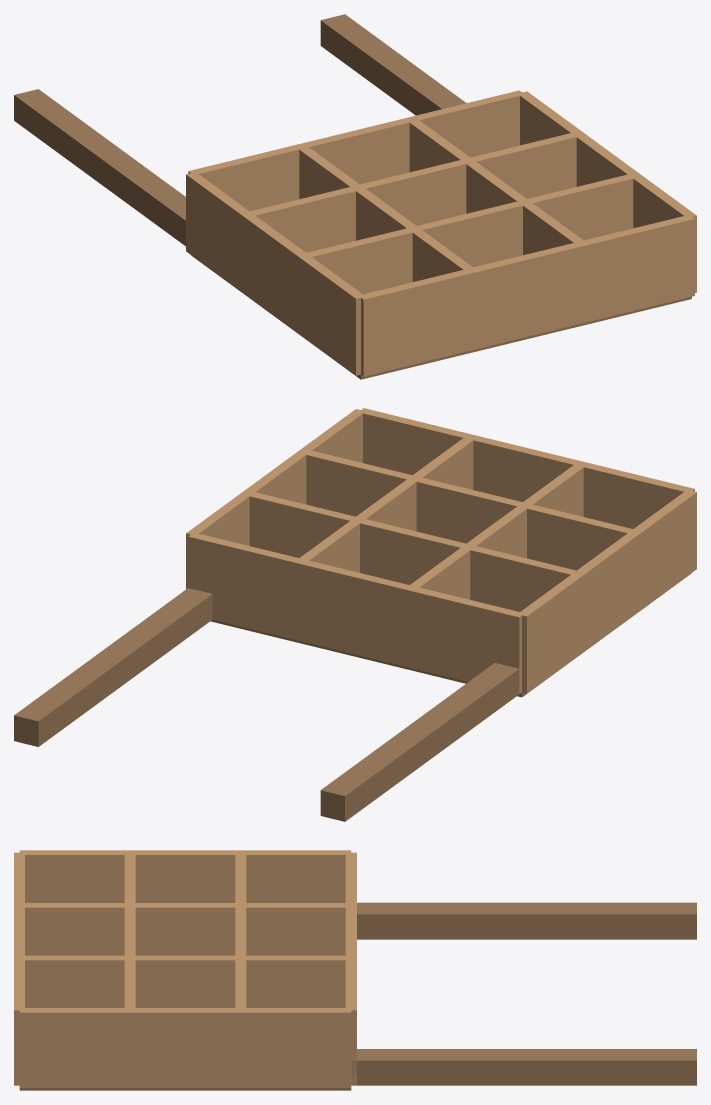
File: shelf_R.glb
The picture shows the model from 3 angles, top to bottom: view 1: azimuth 30°, elevation 25°; view 2: azimuth 150°, elevation 25°; view 3: azimuth 270°, elevation 25°; orthographic projection. The views are drawn at different scales.
Visible parts, largest first — view 1: world; view 2: world; view 3: world.
Boxes of the visible parts, bbox=[...] form: world: bbox=[14, 14, 696, 379]; world: bbox=[14, 408, 696, 821]; world: bbox=[14, 850, 696, 1090].
Size of the model in its own units: 0.556 by 0.128 by 0.988.
